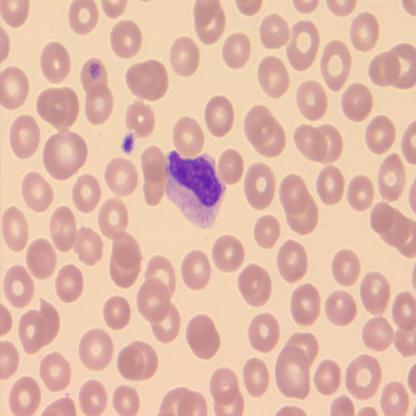Metamyelocyte: (162, 146, 230, 234)
